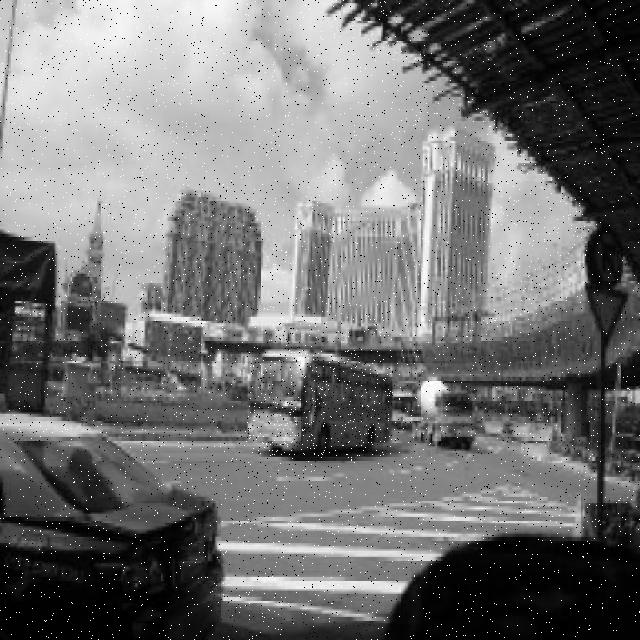Bus: (247, 349, 392, 456)
